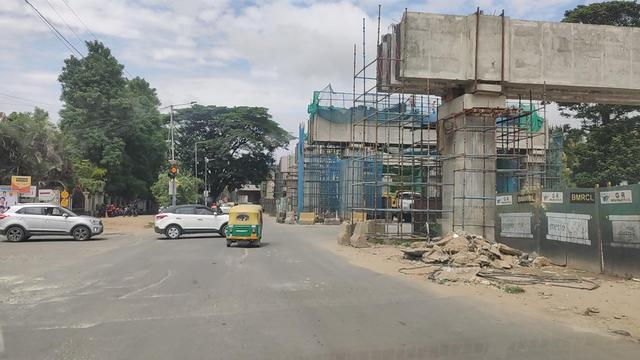LMV: (0, 204, 101, 241), (151, 202, 224, 235), (226, 206, 263, 245)
RoadDamages: (1, 270, 69, 307), (118, 263, 174, 298), (27, 314, 99, 336)
